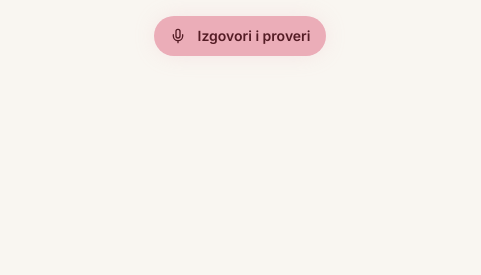
Test: Recorded pronunciation assessment › keeps a failed assessment visible and retries the same audio without awarding success
Click the button "Izgovori i proveri".
click(240, 36)  # box [154,16,326,56]
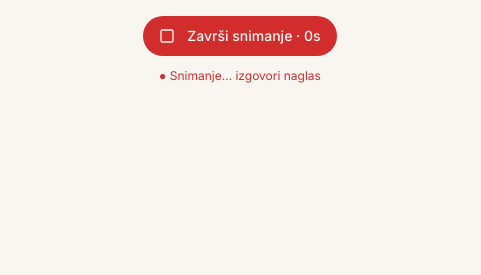
Click the button "Završi snimanje · 0s".
click(240, 36)  # box [143,16,337,56]
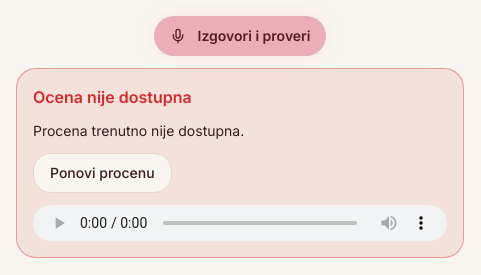
expect the message "Ocena nije dostupna Procena trenutno nije dostupna. Ponovi procenu" is shown: met
Click the button "Ponovi procenu".
click(102, 173)  # box [33,153,172,193]
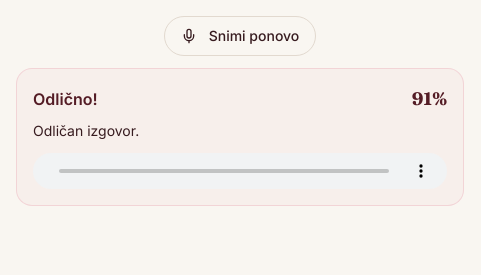
expect the text "91%" is shown: met, box [412,85,447,113]
